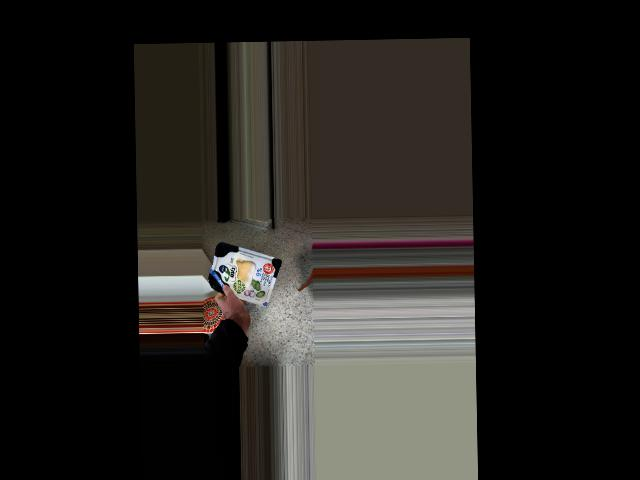cheese: (207, 240, 282, 306)
